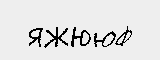Б: (100, 13, 121, 30)
И: (75, 13, 98, 31)
М: (18, 19, 36, 35)
Ф: (122, 14, 148, 29)
Х: (53, 14, 75, 34)
Ң: (35, 17, 54, 36)
